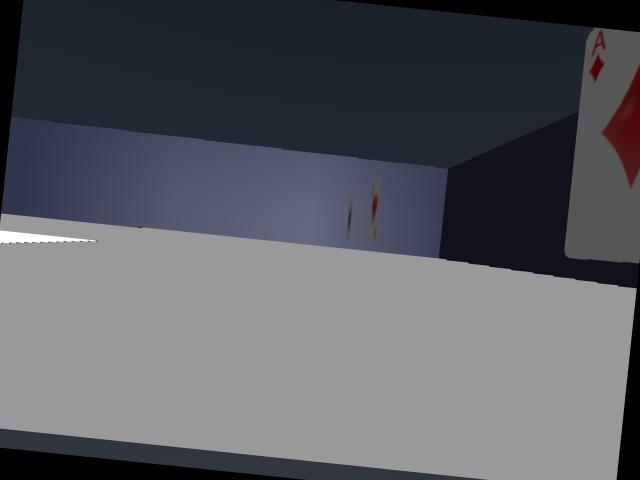diamond: (565, 28, 639, 262), (368, 177, 381, 241)
